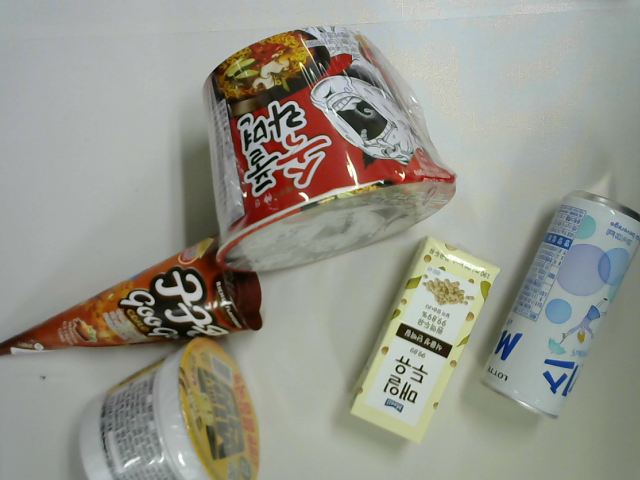99.89_Soymilk: (347, 234, 502, 445)
GooGoo_Cone_CVS: (1, 233, 268, 358)
Hejangmini: (77, 335, 267, 480)
Hejangpul: (199, 19, 462, 278)
Milkies_250ml: (476, 186, 640, 423)
